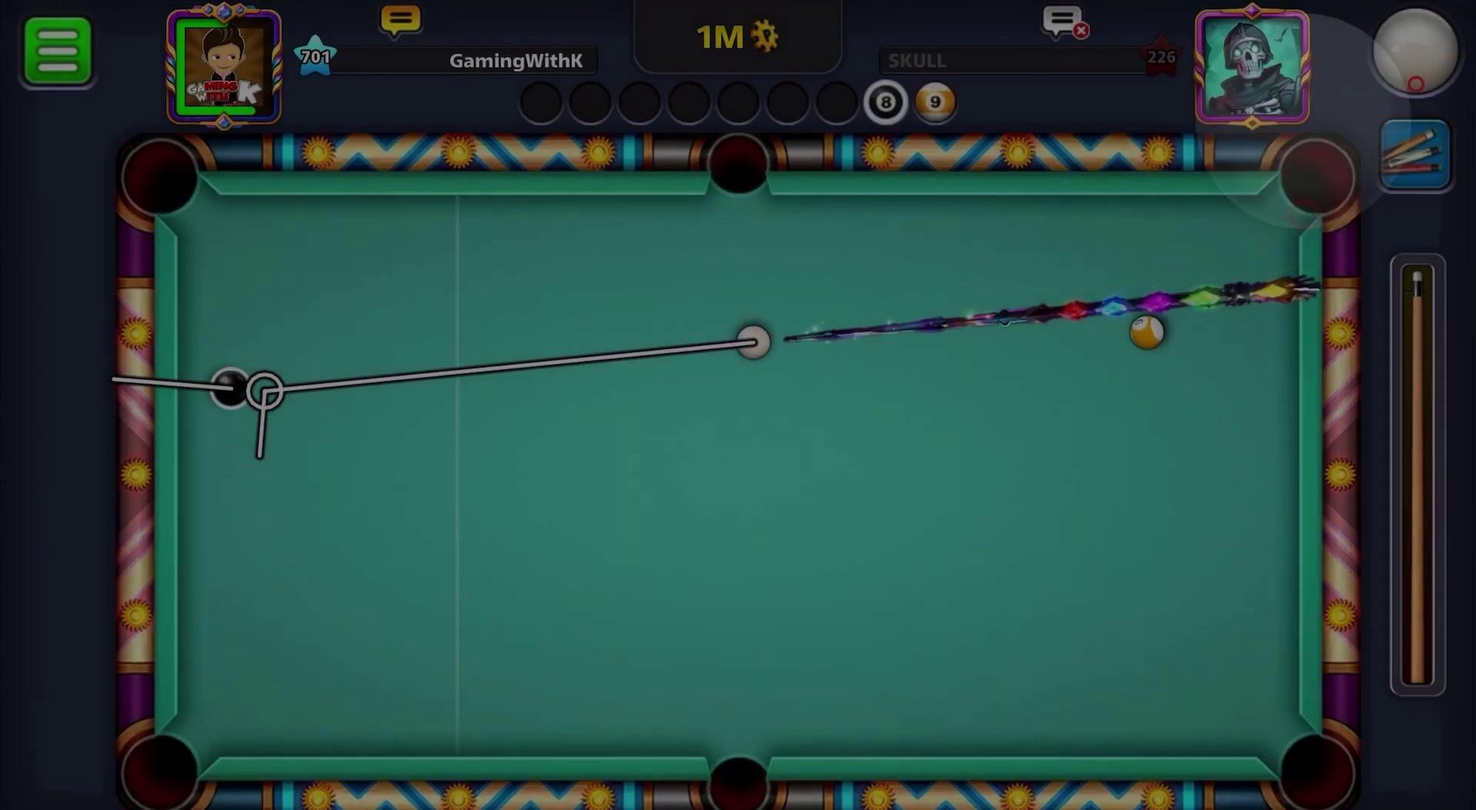Ball: (205, 364, 255, 409), (1127, 314, 1168, 352)
Force: (1385, 250, 1453, 695)
Guideline: (112, 325, 771, 459)
Hole: (105, 127, 215, 230), (1268, 125, 1364, 232), (111, 717, 215, 809), (1264, 715, 1364, 809), (683, 734, 789, 809), (696, 129, 780, 201)
Play_Area: (184, 194, 1323, 762)
Spin: (1340, 0, 1475, 115)
White: (731, 315, 783, 364)
